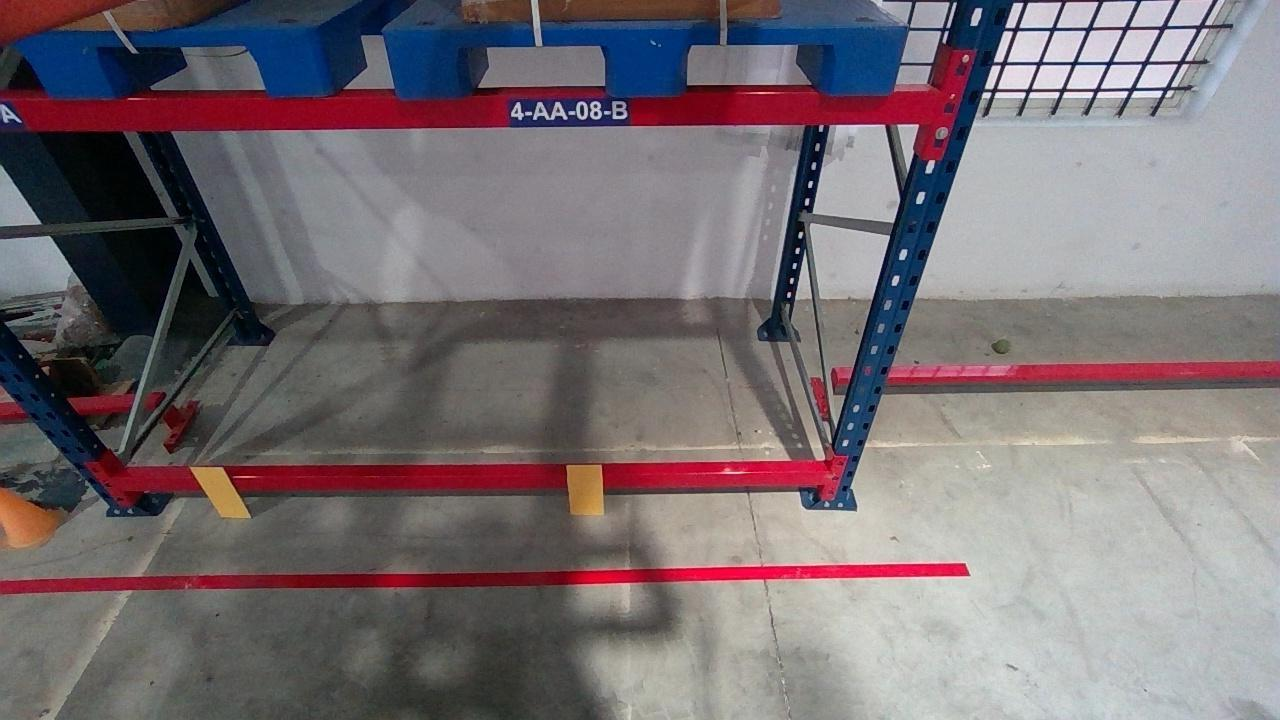h_rack: (2, 90, 944, 130), (111, 470, 831, 492)
orange_strip: (188, 467, 252, 518), (565, 465, 604, 515)
red_line: (1, 562, 974, 589)
small_pallet: (375, 24, 918, 92), (4, 28, 330, 95)
